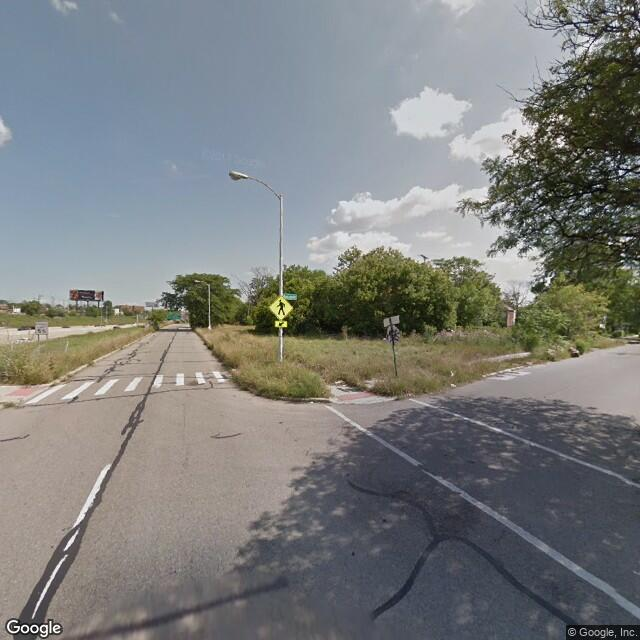litter: (569, 347, 582, 356), (332, 378, 346, 385), (448, 381, 459, 388), (449, 370, 454, 376), (309, 401, 316, 403)
